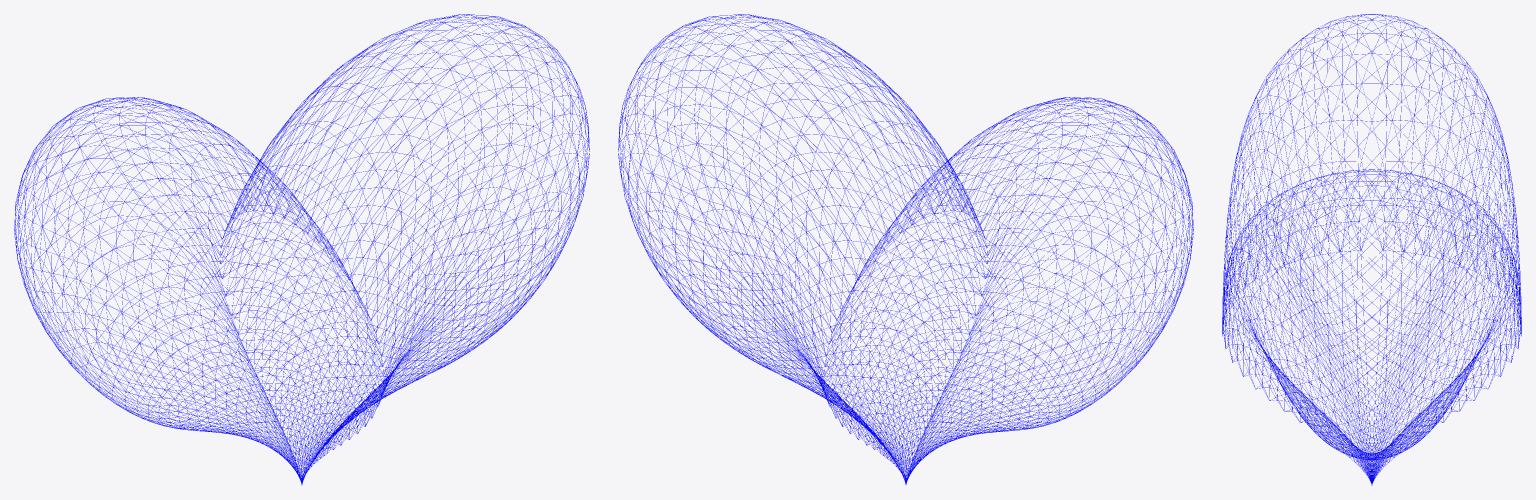
The model's file is Form3.glb.
3 renders of one model, left to right at view 1: azimuth 30°, elevation 25°; view 2: azimuth 150°, elevation 25°; view 3: azimuth 270°, elevation 25°, orthographic. The views are drawn at different scales.
Size of the model in its own units: 4.42 by 3.25 by 2.3.
